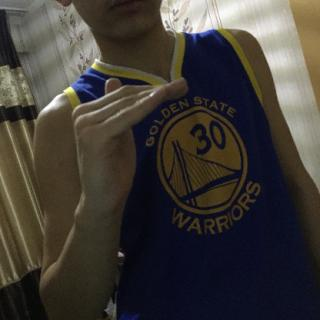KHAA: (72, 72, 200, 220)
